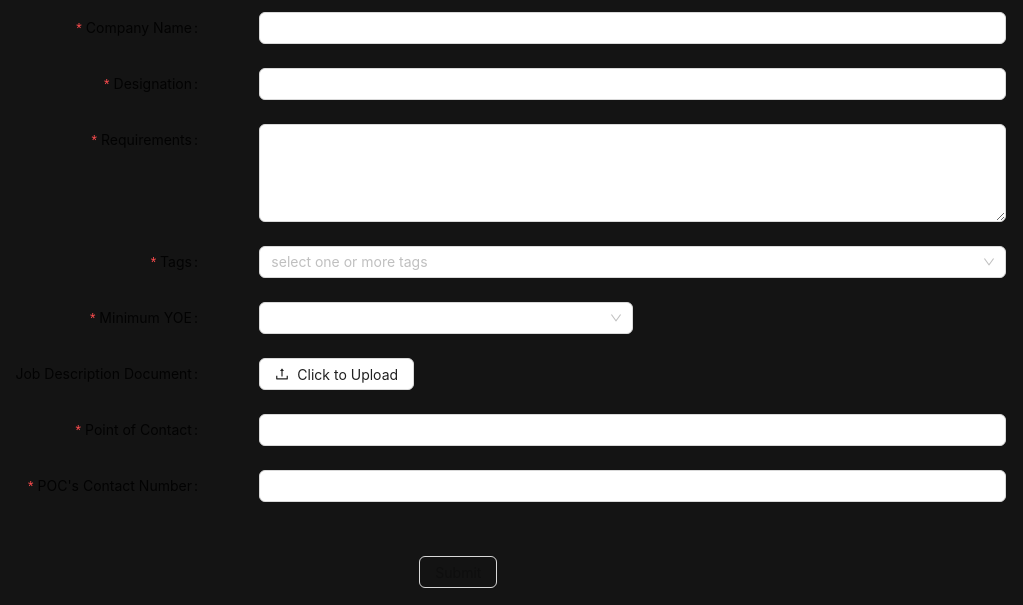
JobForm › validation error message should be displayed when entering invalid requirements
In the text box labelled "Requirements": (633, 173) [259,124,1006,222], type "Test Requiemets"
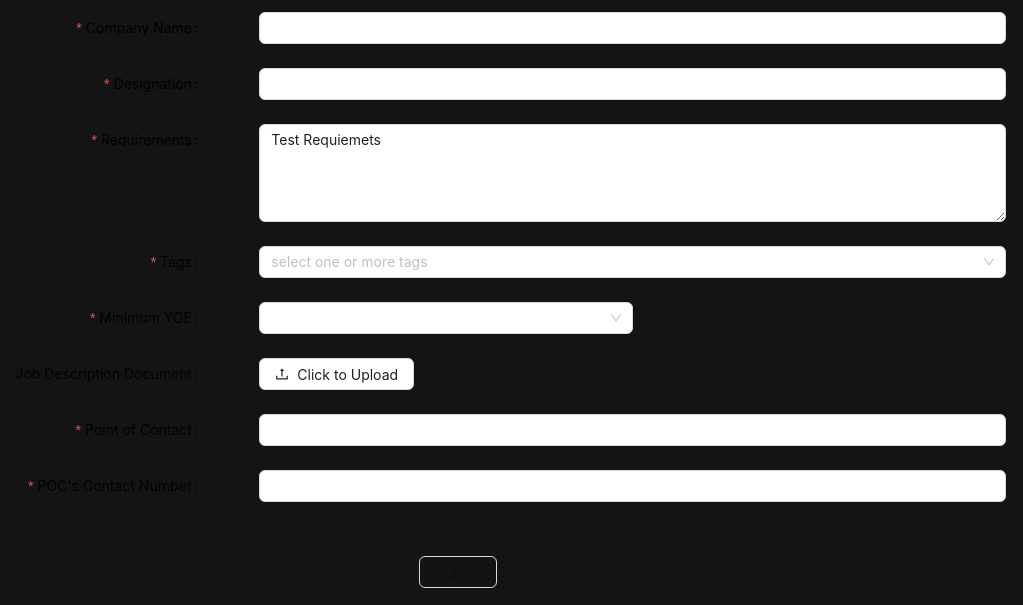
Clear the text box labelled "Requirements": (633, 173) [259,124,1006,222]
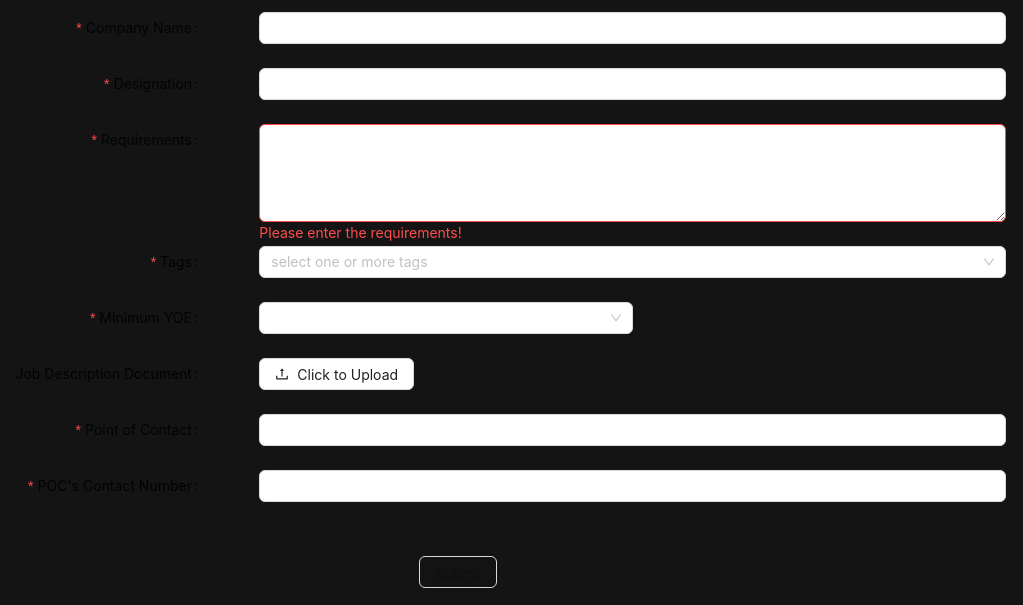
Result: the text "Please enter the requirements!" is shown at [259,224,462,241]
